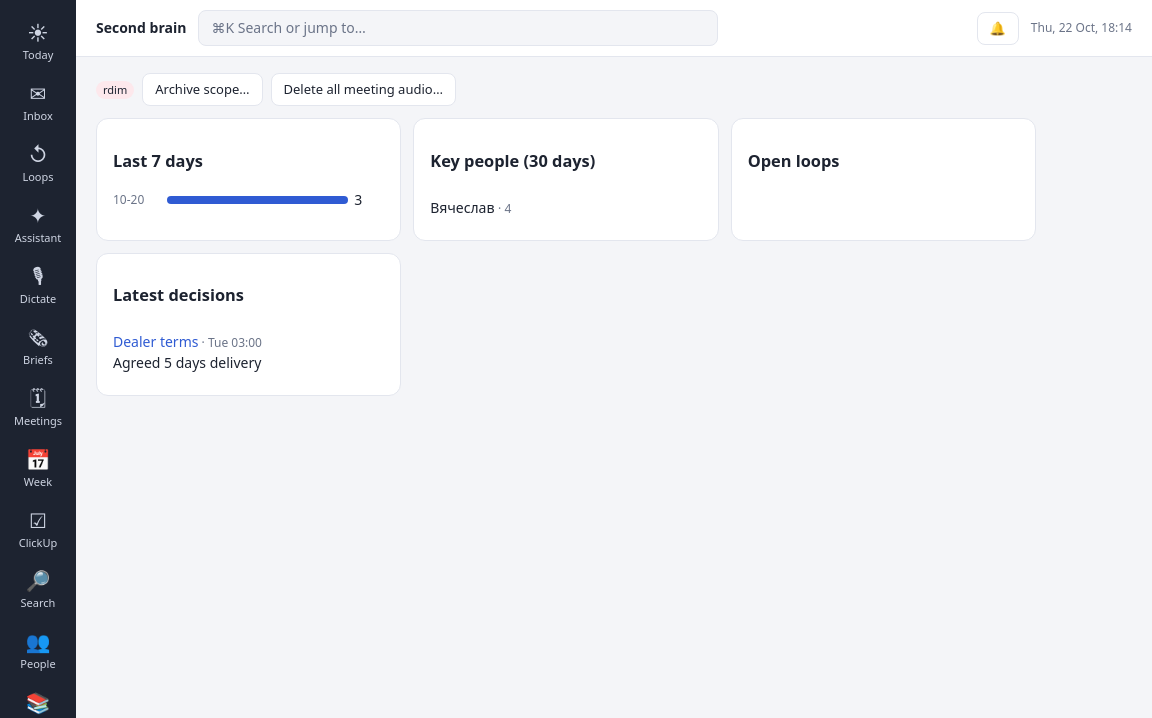
Scenario: scope page shows decisions and can be archived
This screenshot has width=1152, height=718.
Check: the text "Agreed 5 days delivery" is shown, box [113,353,261,372]
Click the button "Archive scope…".
click(202, 90)  # box [142,73,262,106]
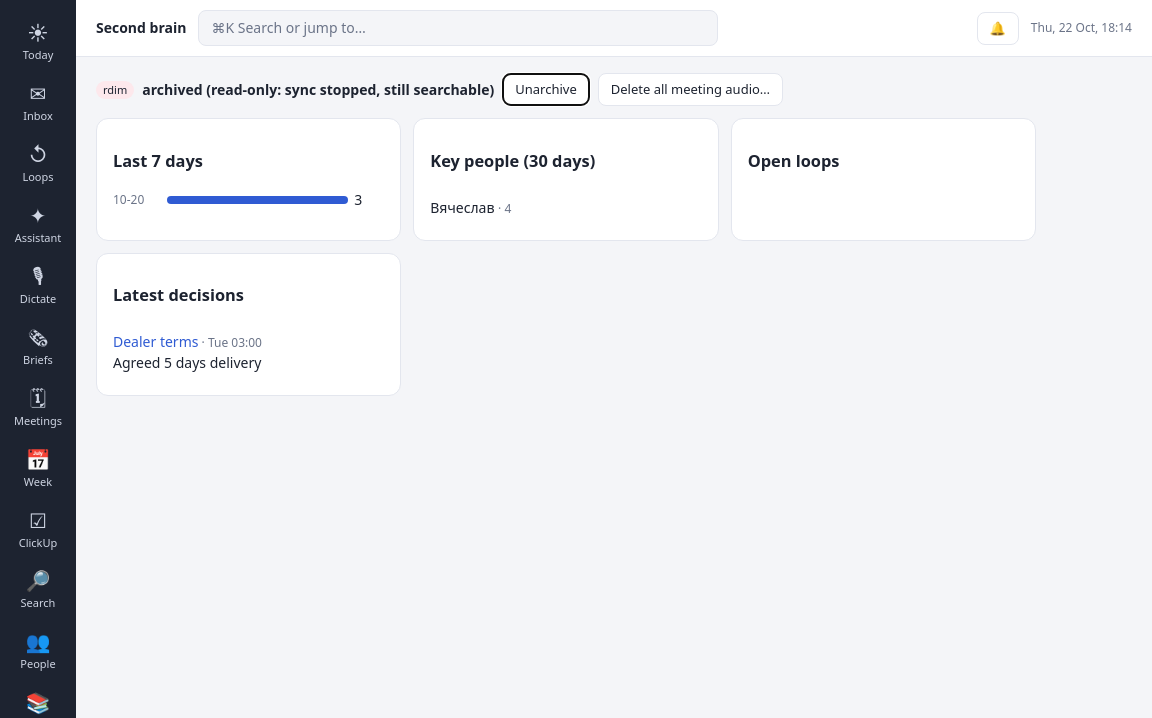
Check: the text "archived (read-only: sync stopped, still searchable)" is shown, box [142,80,494,100]
